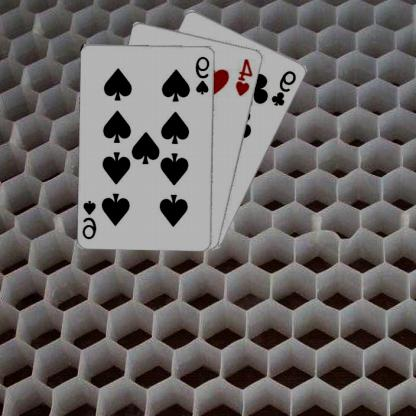4H: (234, 56, 256, 97)
9C: (270, 68, 300, 108)
9S: (195, 53, 213, 96), (82, 198, 99, 240)
